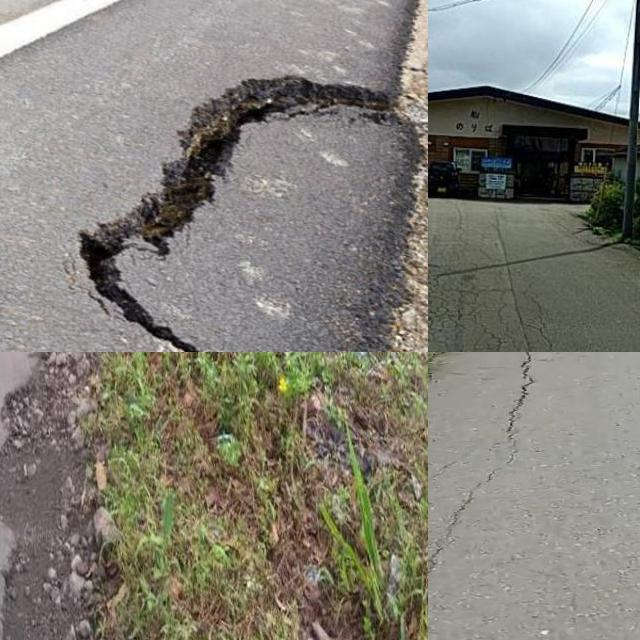Pinggir: (35, 40, 428, 352), (0, 352, 115, 640)
